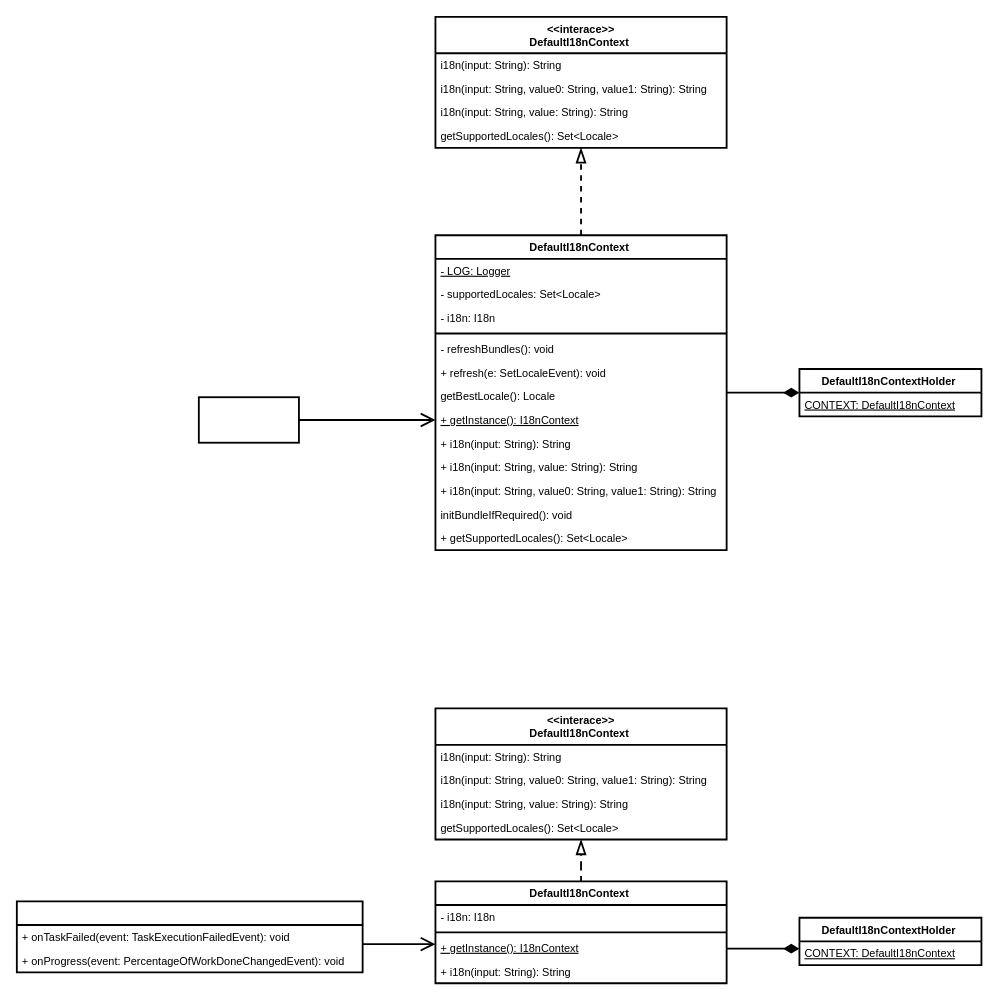
The diagram is 997 pixels wide and 1001 high, and some of its shapes have lost their labels. The box of each missing label's shape, as (x1, y1, x2, y2) in pixels:
Client: (197, 396, 299, 443)
Footer: (15, 900, 363, 973)
